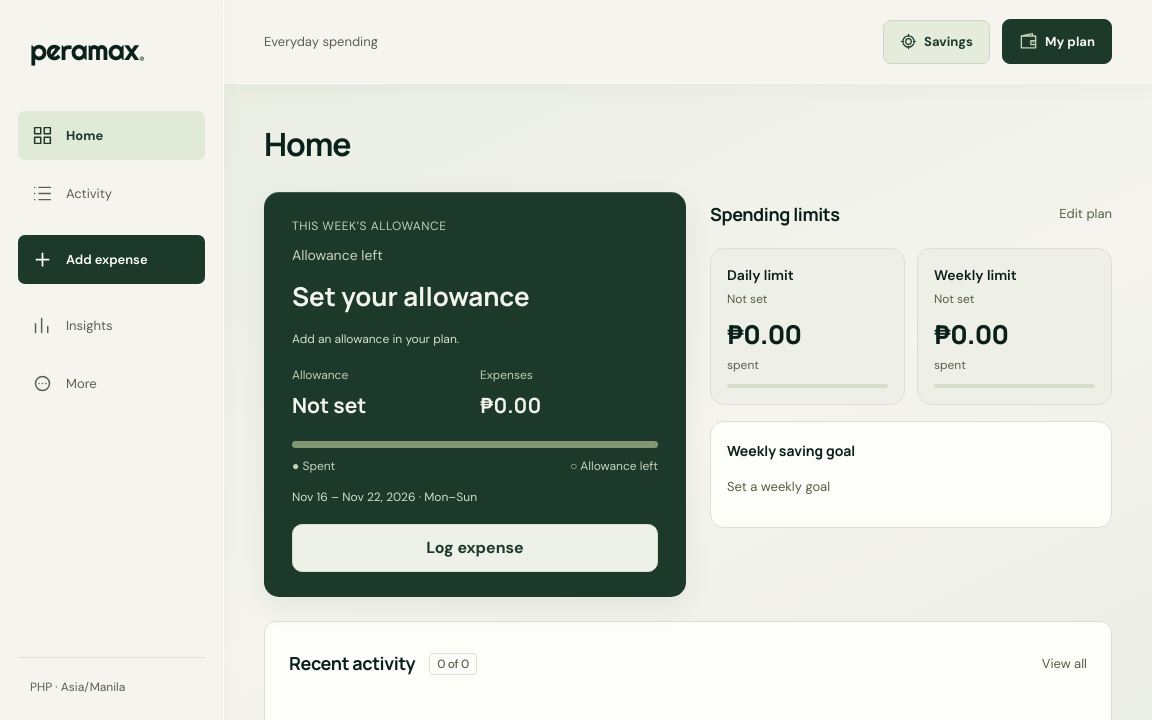
Test: highlights and focuses My plan from the allowance card without opening a modal
The width and height of the screenshot is (1152, 720).
Click the button named "Highlight My plan in the header" at (475, 394), box left=264, top=192, right=686, bottom=597
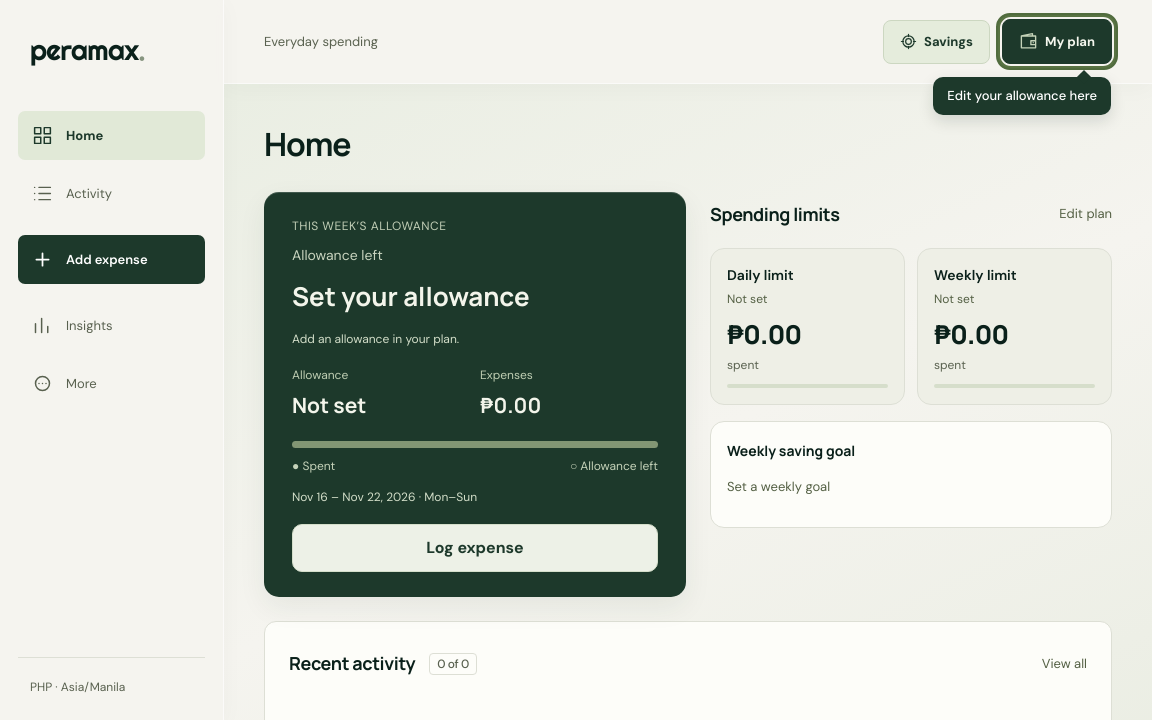
Click the heading "Home" at (307, 144), box left=264, top=122, right=351, bottom=166
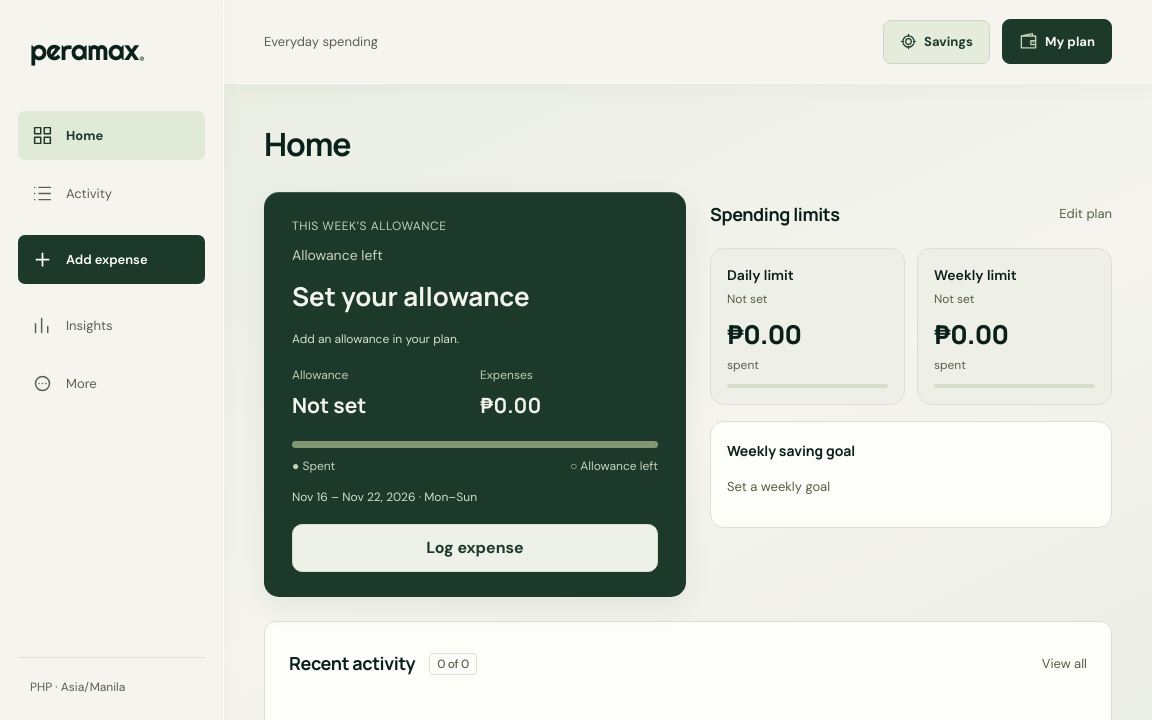
Click the button named "Highlight My plan in the header" at (475, 394), box left=264, top=192, right=686, bottom=597
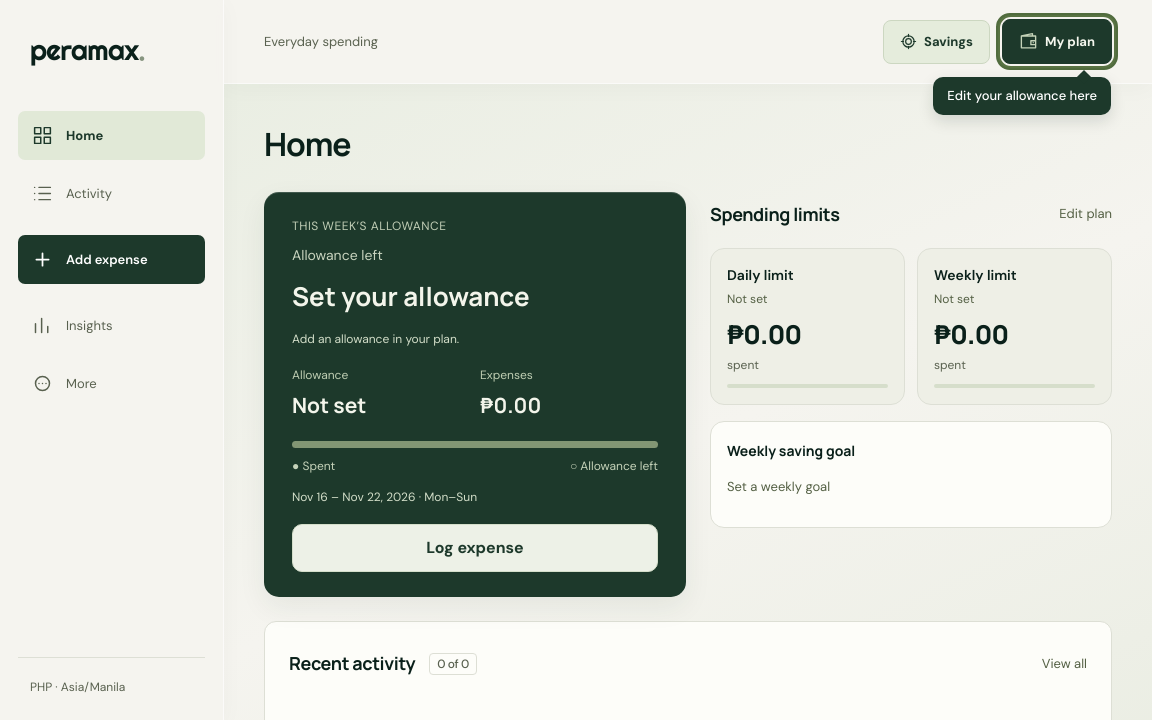
Press Escape
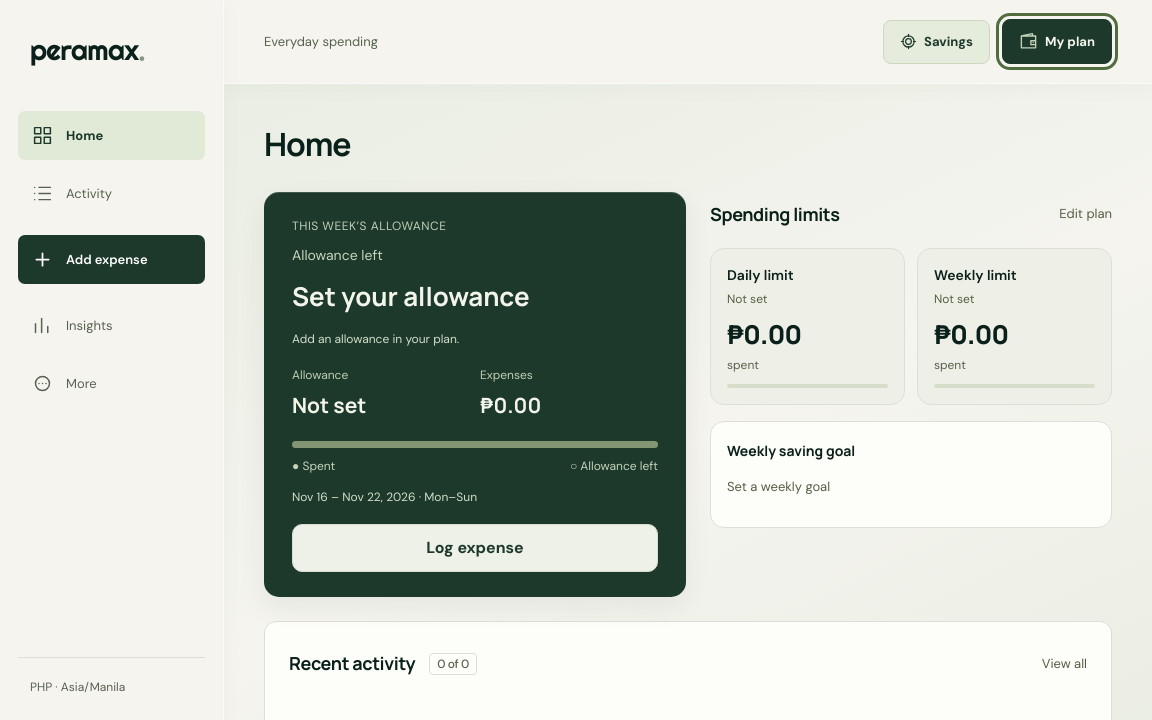
Click the button "My plan" at (1057, 42), box left=1002, top=19, right=1112, bottom=64
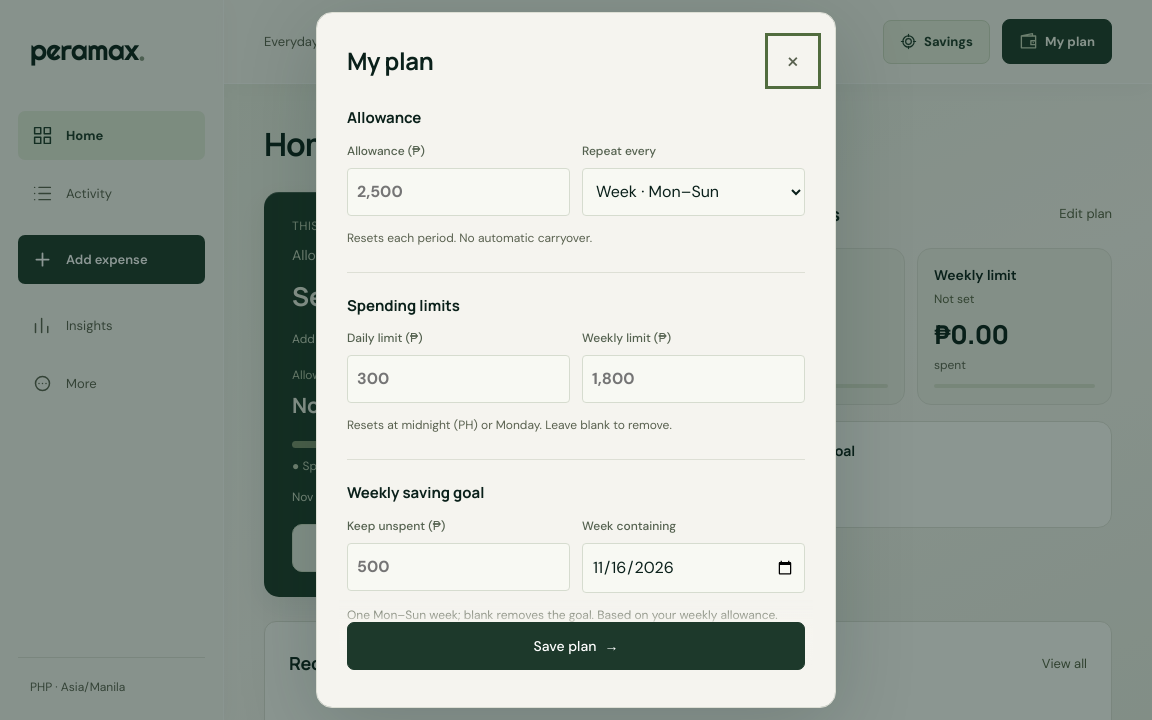
Result: the number field labelled "Allowance (₱)" is shown at left=347, top=168, right=570, bottom=216
